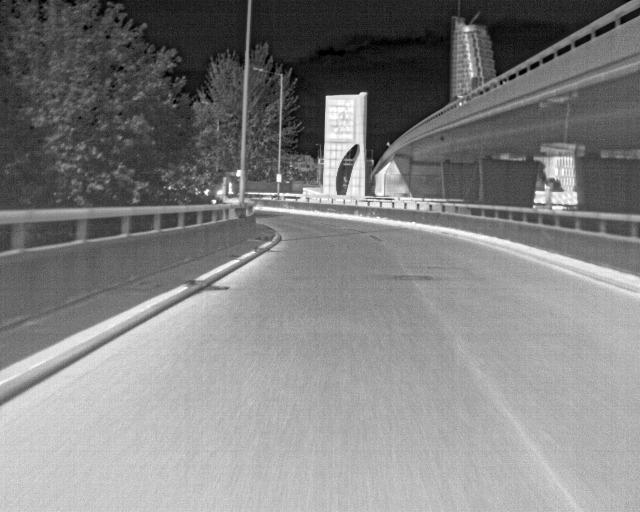light: (228, 183, 234, 194)
sign: (533, 192, 577, 204), (277, 174, 281, 182)
